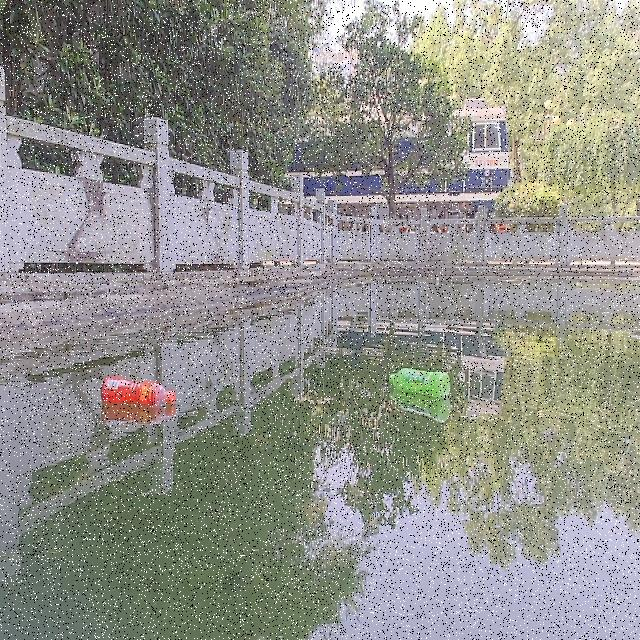bottle: (99, 373, 176, 407), (386, 367, 450, 396)
